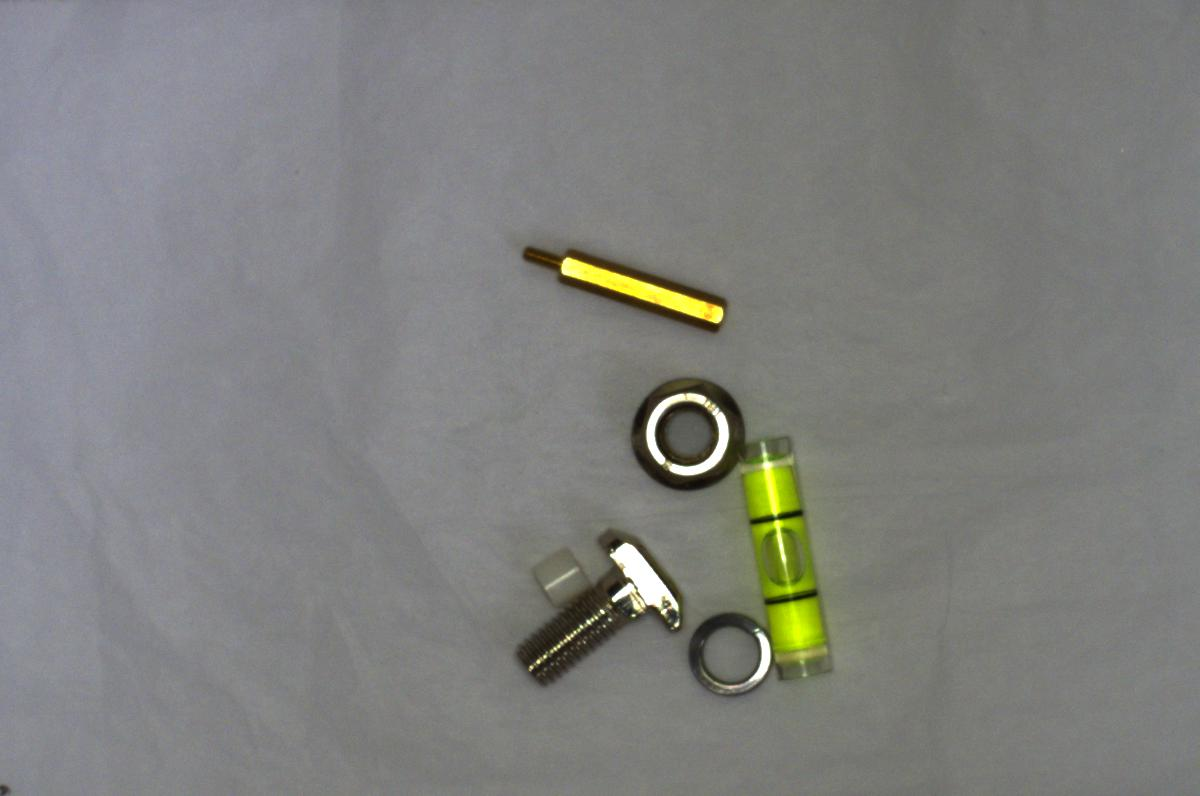Flange nut: (622, 368, 746, 501)
Hexagon pillar: (508, 238, 732, 336)
Horizontal bubble: (724, 439, 853, 681)
Plastic cushion pillar: (530, 541, 588, 606)
Spring washer: (678, 601, 780, 702)
T-shaped screw: (517, 521, 684, 692)
